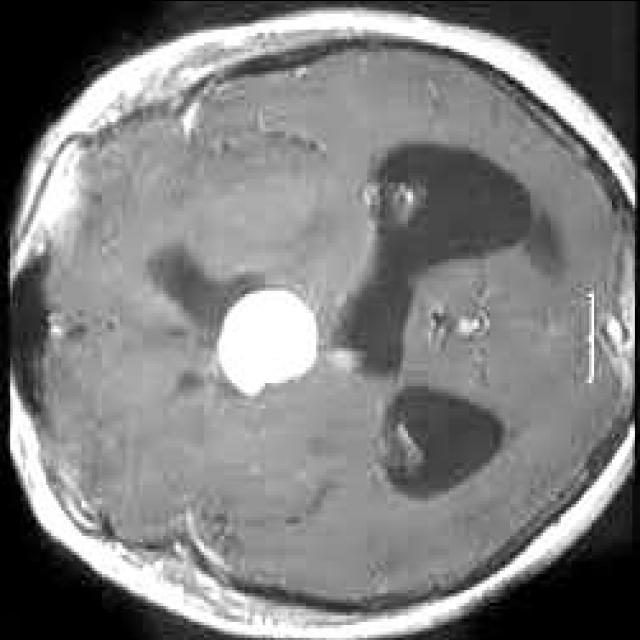tumor: (217, 287, 321, 398)
